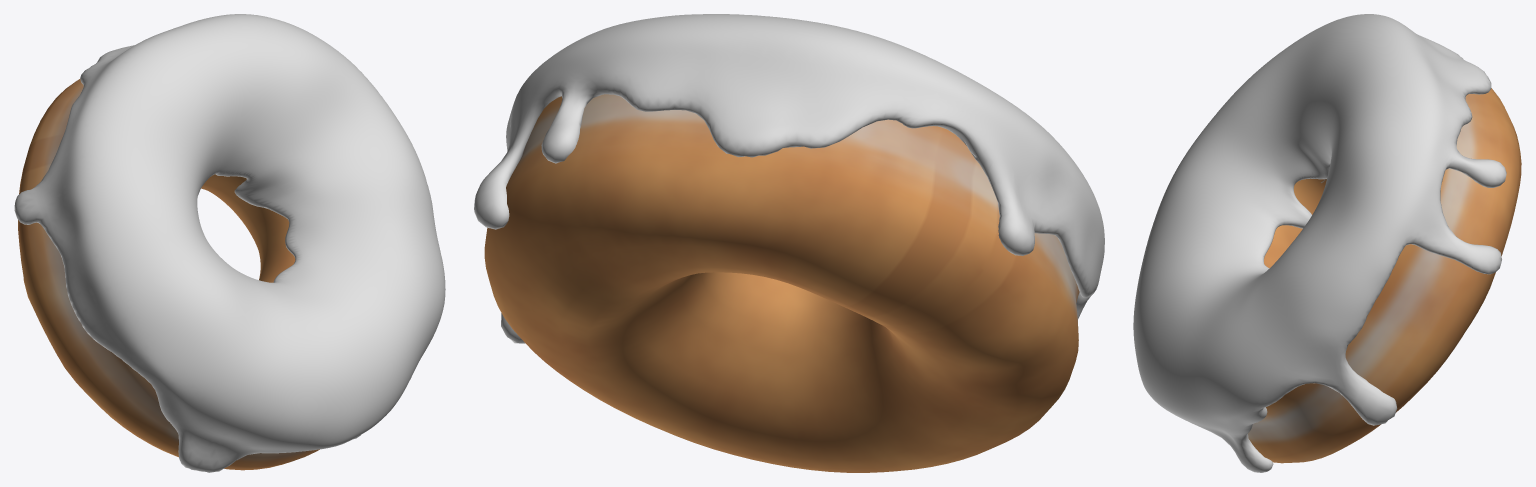
Rendered from donutO.fbx.
3 views of the same model, side by side, from view 1: azimuth 30°, elevation 25°; view 2: azimuth 150°, elevation 25°; view 3: azimuth 270°, elevation 25° (orthographic). The views are drawn at different scales.
Parts seen in each view (by area): view 1: Icing, Donut; view 2: Donut, Icing; view 3: Icing, Donut.
Boxes of the visible parts, x1=… form: Icing: x1=14, y1=14, x2=445, y2=472; Donut: x1=18, y1=79, x2=319, y2=470; Donut: x1=484, y1=94, x2=1079, y2=472; Icing: x1=474, y1=14, x2=1104, y2=343; Icing: x1=1133, y1=14, x2=1506, y2=472; Donut: x1=1248, y1=88, x2=1521, y2=463.
Size of the model in its own units: 9.25 by 8.61 by 7.88.
2 materials, 1 textured.
